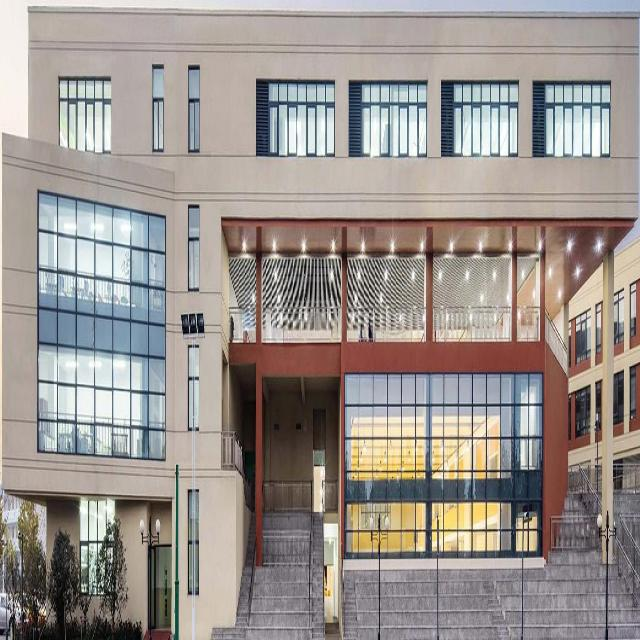railing: (226, 309, 538, 342), (609, 514, 636, 607), (567, 464, 636, 493), (548, 517, 600, 549), (262, 482, 309, 513), (260, 534, 308, 563), (219, 433, 239, 479), (518, 438, 543, 472), (320, 483, 335, 514)
window: (36, 191, 164, 461), (430, 374, 511, 478), (344, 374, 425, 477), (544, 80, 609, 158), (270, 82, 335, 157), (452, 84, 517, 156), (362, 85, 427, 155), (344, 503, 423, 554), (59, 76, 110, 152), (430, 505, 511, 551), (78, 501, 111, 599), (146, 547, 170, 633), (518, 375, 543, 434), (515, 503, 541, 553), (186, 492, 198, 596), (187, 346, 198, 432), (187, 206, 198, 290), (188, 67, 199, 147), (572, 386, 588, 440), (573, 310, 588, 366), (152, 66, 162, 148), (611, 290, 621, 346), (611, 371, 621, 426), (628, 278, 633, 346), (594, 304, 599, 355), (593, 382, 598, 430), (627, 370, 632, 417), (565, 321, 568, 369), (565, 396, 568, 442)
